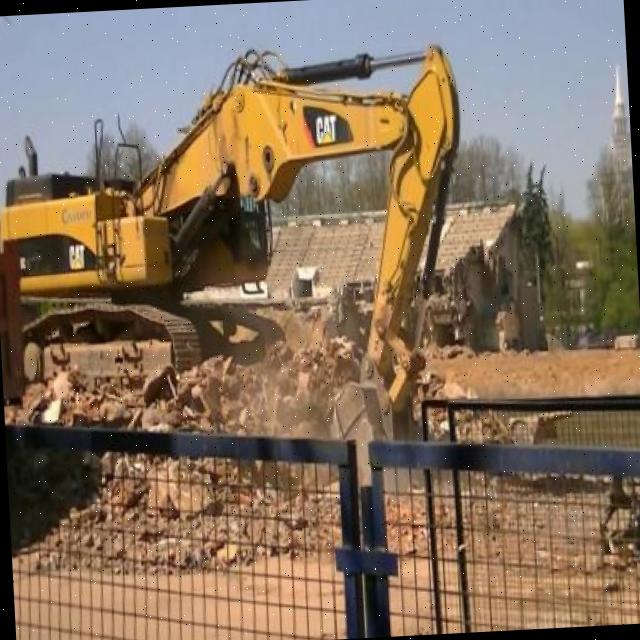Excavator: (0, 30, 478, 485)
